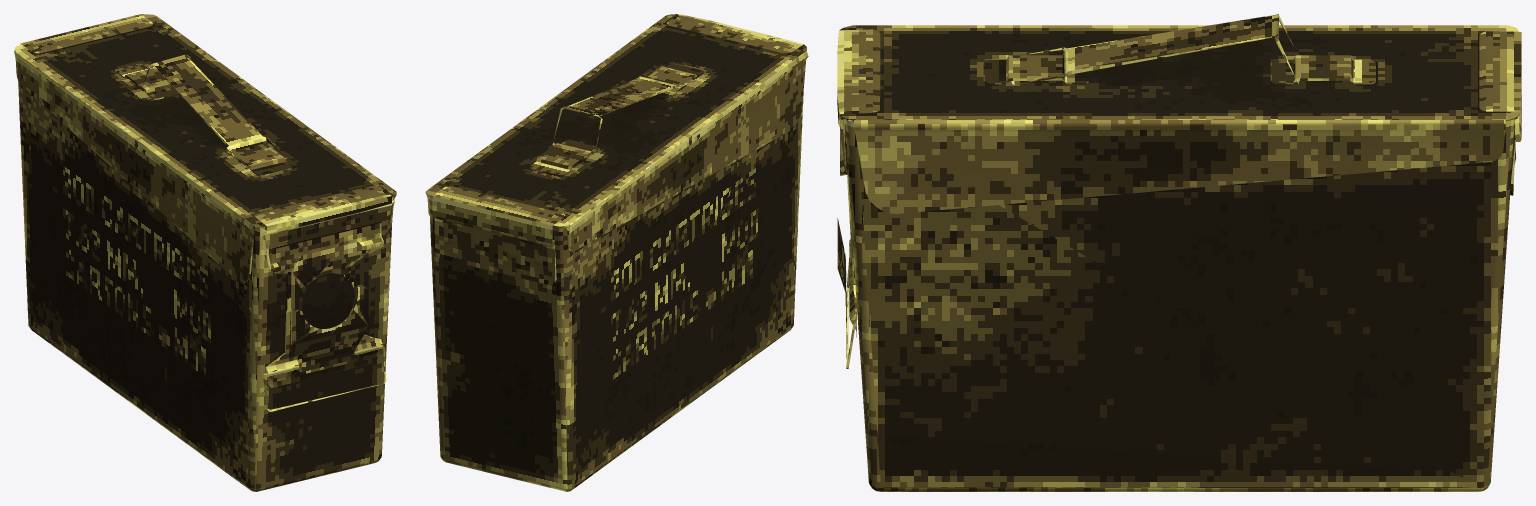
File: ammo_box.glb
3 renders of one model, left to right at view 1: azimuth 30°, elevation 25°; view 2: azimuth 150°, elevation 25°; view 3: azimuth 270°, elevation 25°, orthographic. The views are drawn at different scales.
Parts seen in each view (by area): view 1: body; view 2: body; view 3: body.
Boxes of the visible parts, x1,y1,x2,y2 form: body: (14, 14, 396, 491); body: (425, 14, 808, 491); body: (837, 14, 1521, 491).
Size of the model in its own units: 0.0865 by 0.1775 by 0.2571.
1 material, 1 textured.
